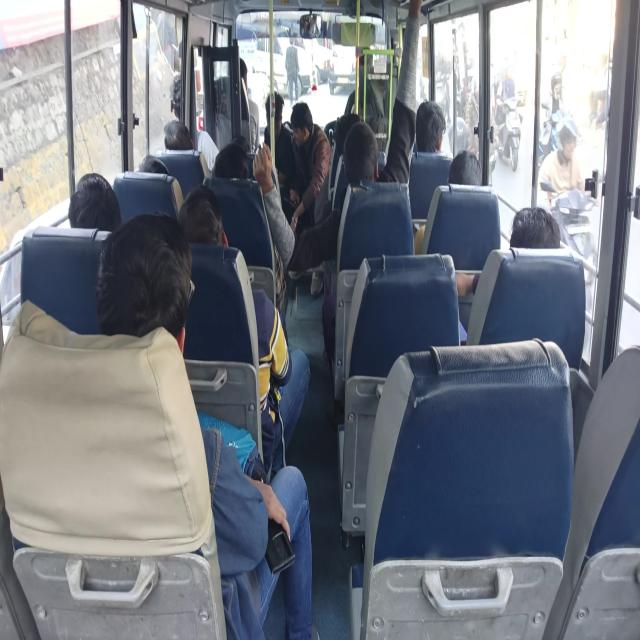person: (95, 211, 314, 638), (178, 183, 310, 479), (287, 0, 422, 278), (212, 139, 296, 273), (454, 205, 560, 298), (414, 149, 482, 254), (286, 101, 332, 234), (538, 114, 584, 204), (214, 56, 250, 149), (68, 172, 121, 231), (263, 90, 294, 186), (510, 206, 560, 249), (415, 99, 446, 153), (212, 140, 249, 180), (448, 150, 482, 186), (284, 35, 300, 107), (163, 119, 193, 150)
